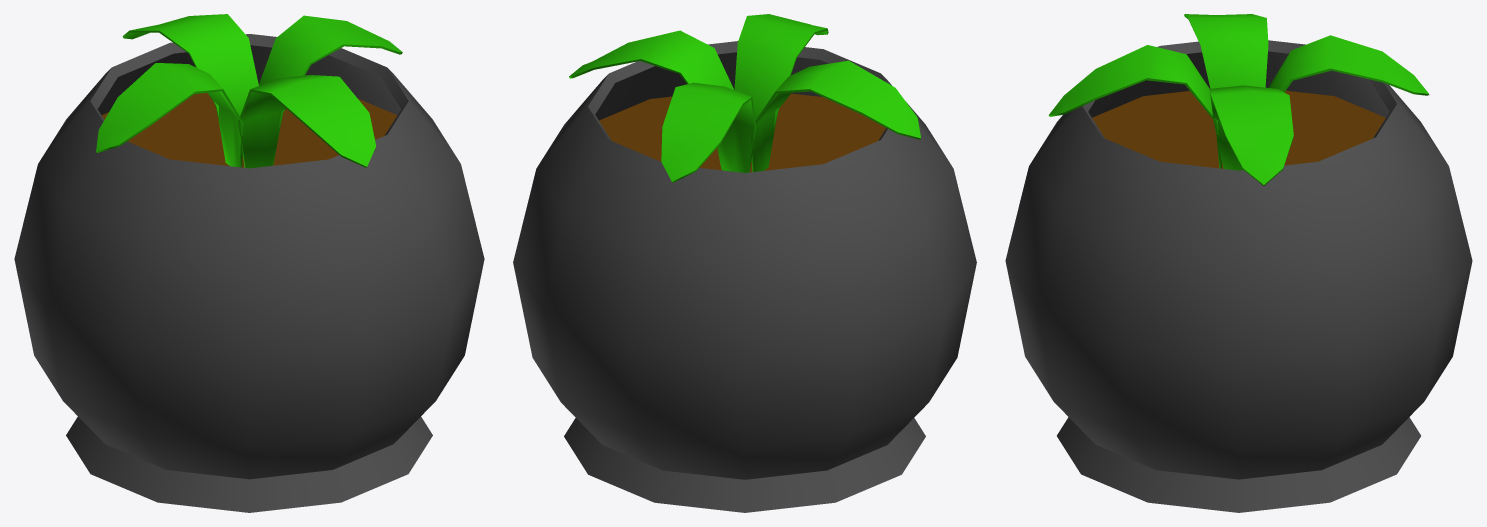
The model's file is Hea_Player_Plant_Desk.fbx.
The picture shows the model from 3 angles, left to right: view 1: azimuth 30°, elevation 25°; view 2: azimuth 150°, elevation 25°; view 3: azimuth 270°, elevation 25°; orthographic projection.
Visible parts, largest first — view 1: FlowerPot_I1.001, Plant_I1.004; view 2: FlowerPot_I1.001, Plant_I1.004; view 3: FlowerPot_I1.001, Plant_I1.004.
Part boxes in pixels (box(x1,y1,x2,y2)): FlowerPot_I1.001: box(14, 34, 484, 512); Plant_I1.004: box(96, 14, 402, 168); FlowerPot_I1.001: box(513, 41, 976, 512); Plant_I1.004: box(569, 14, 920, 182); FlowerPot_I1.001: box(1005, 40, 1472, 512); Plant_I1.004: box(1048, 14, 1429, 185).
Size of the model in its own units: 27.01 by 24.31 by 27.01.
